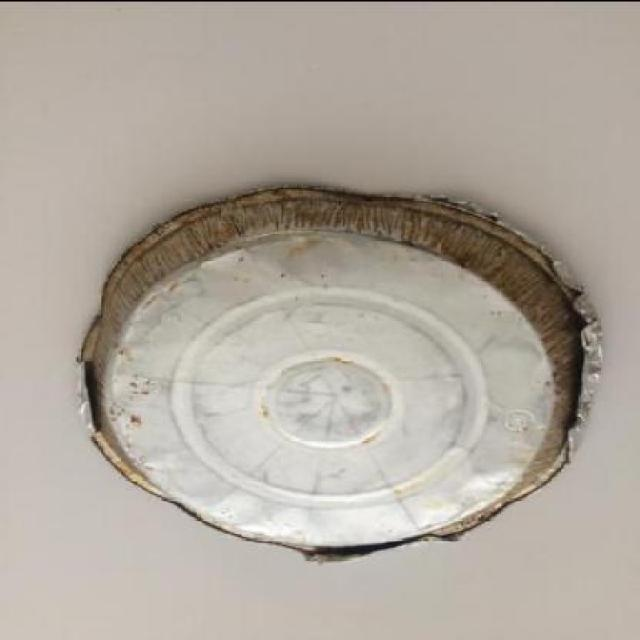metal: (78, 183, 608, 565)
